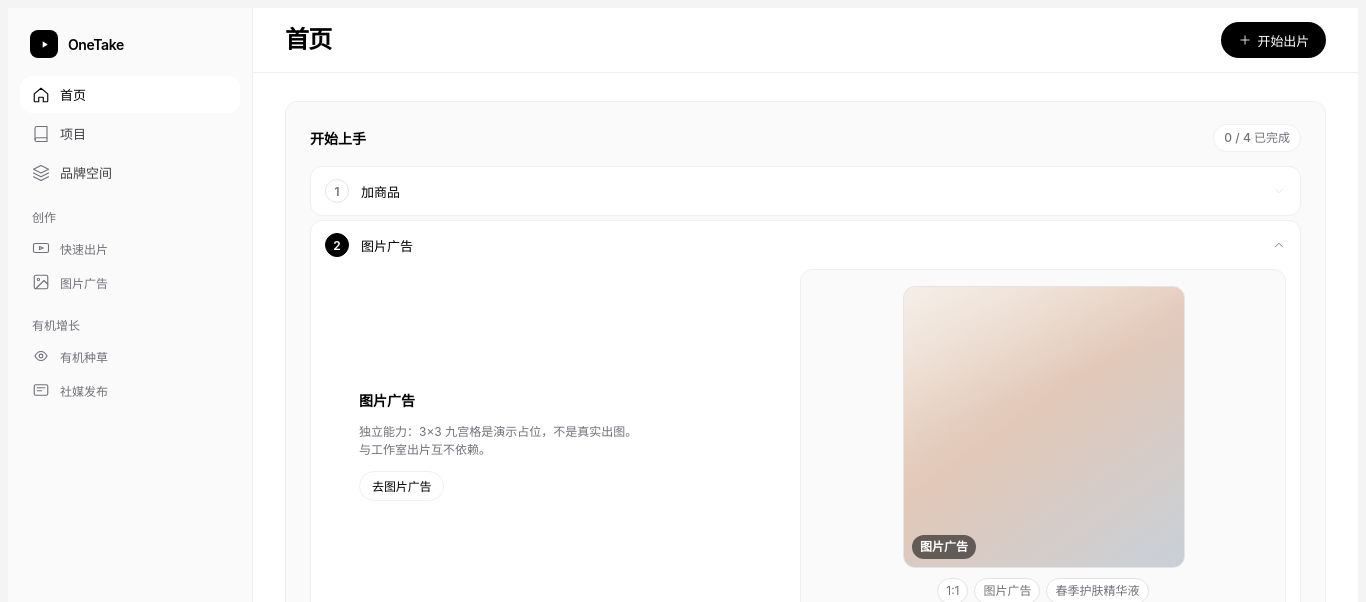
iter18 图片广告与工作室解耦 › 上手第 2 步去图片广告；九宫格主按钮是导出，工作室只是可选
Click the button "去图片广告": point(402, 486) [359,470,444,500]
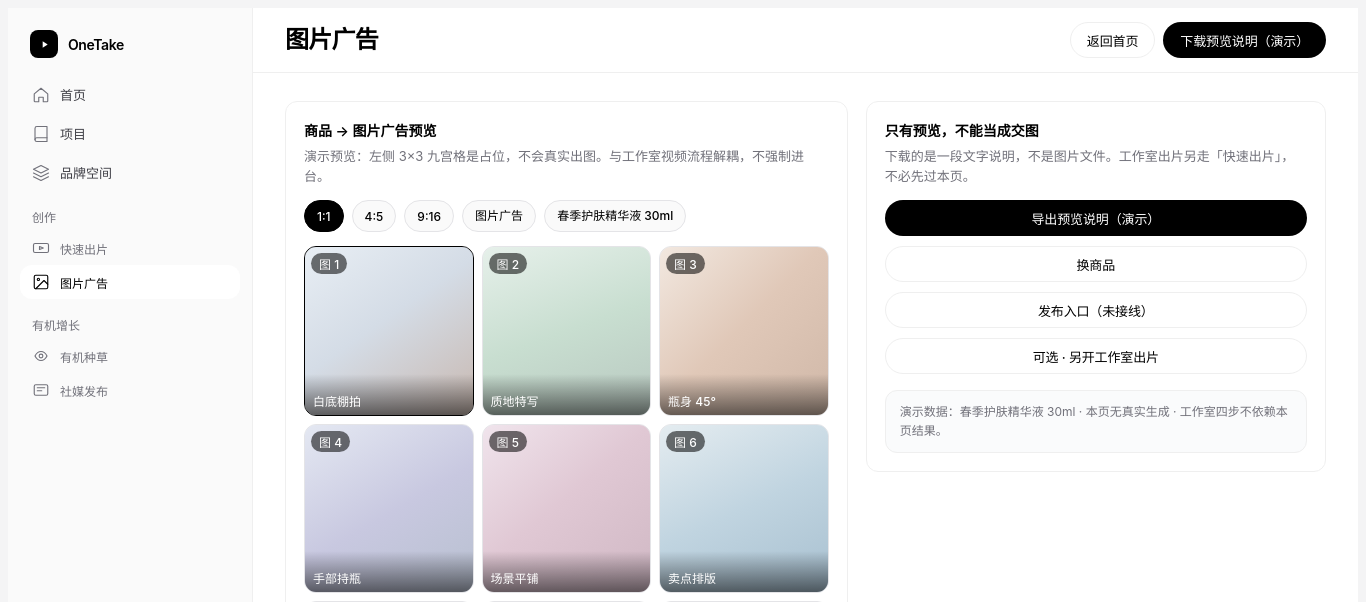
Expected: the heading "图片广告" is shown, [285,22,378,58]
Expected: the number of list items is 9
Click the button "导出预览说明（演示）": point(1096, 218) [885,200,1307,236]
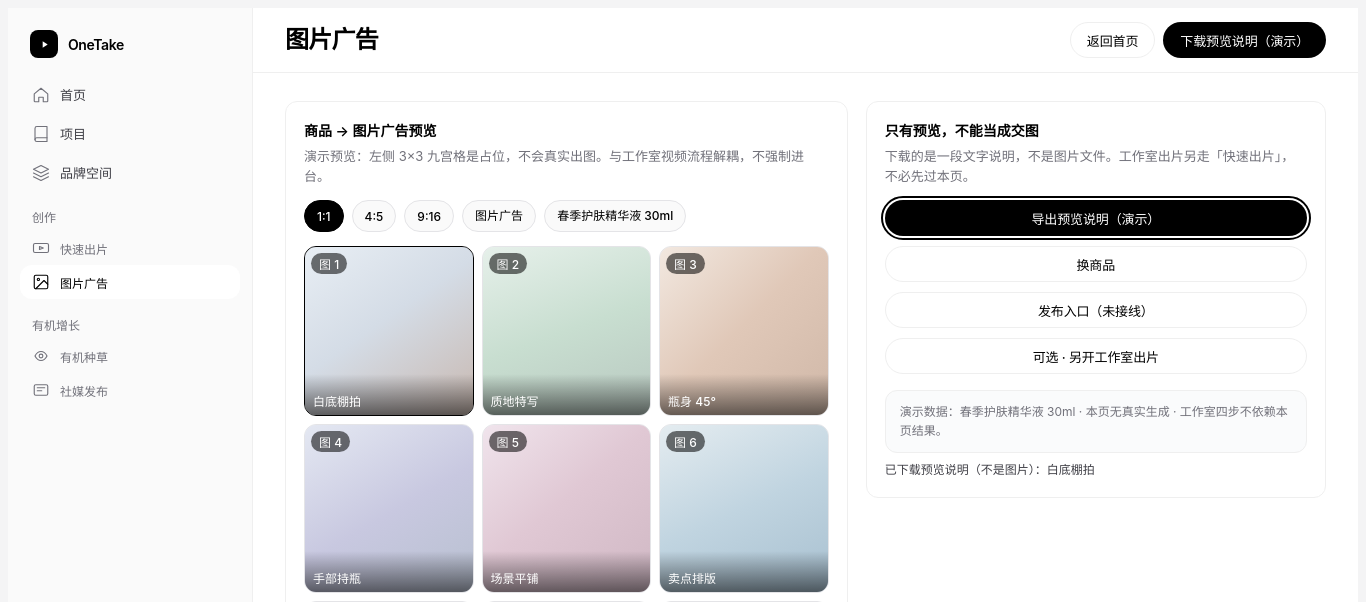
Expected: the heading "图片广告" is shown, [285,22,378,58]
Expected: the message reads "已下载预览说明（不是图片）：白底棚拍", [885,462,1095,477]
Click the button "可选 · 另开工作室出片": point(1096, 356) [885,338,1307,374]
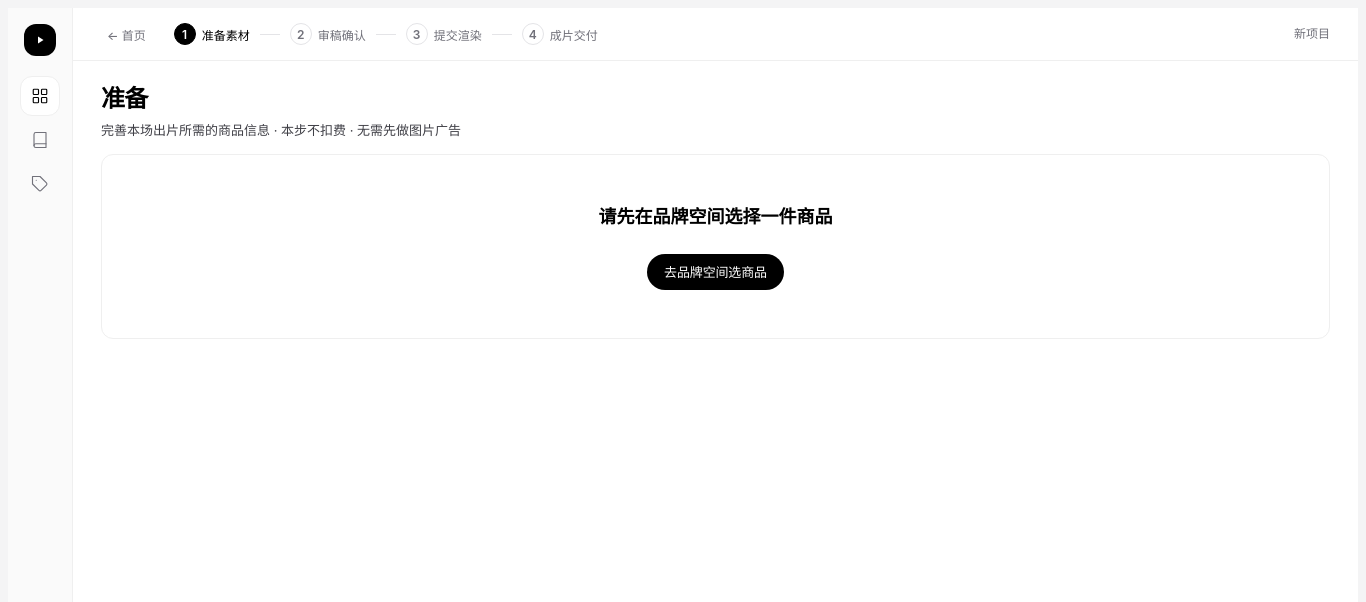
Expected: the heading "准备" is shown, [101,84,148,113]
Expected: the text "完善本场出片所需的商品信息 · 本步不扣费 · 无需先做图片广告" is shown, [101,122,461,138]
